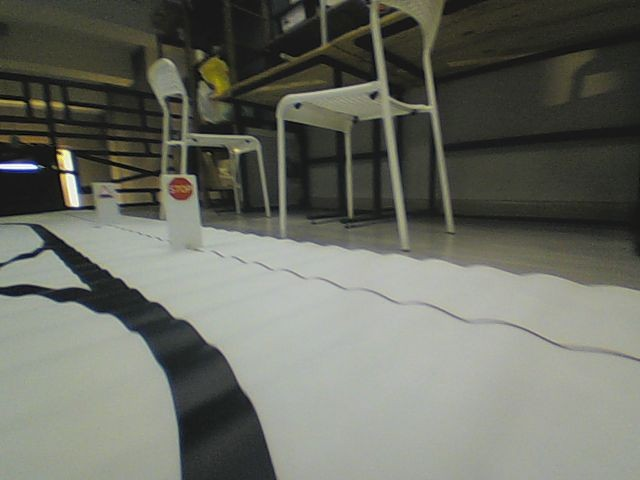Stop: (167, 176, 193, 201)
